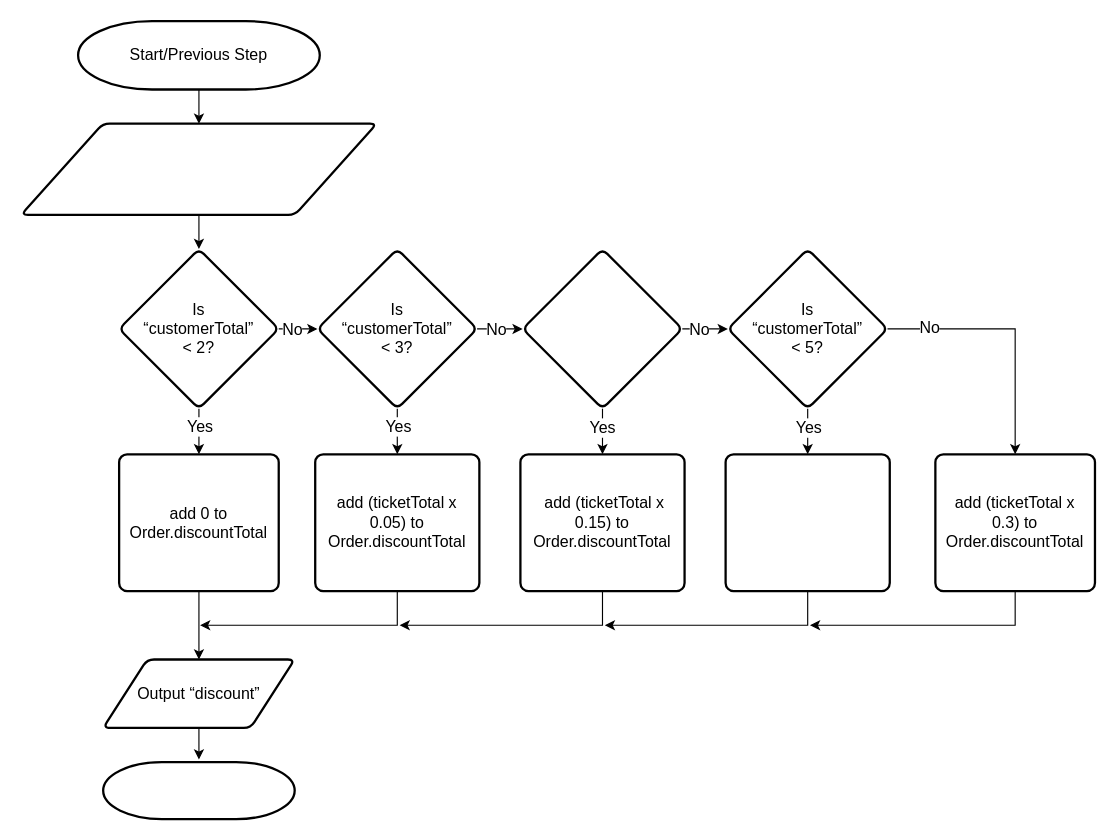
The diagram is 1115 pixels wide and 839 high, and some of its shapes have lost their labels. Each missing label, with the box of its shape:
add (ticketTotal x 0.2) to Order.discountTotal: (724, 453, 890, 592)
End/Next Step: (101, 760, 295, 820)
Import and store Order: (19, 122, 377, 215)
Is “customerTotal” < 4?: (521, 247, 683, 409)
